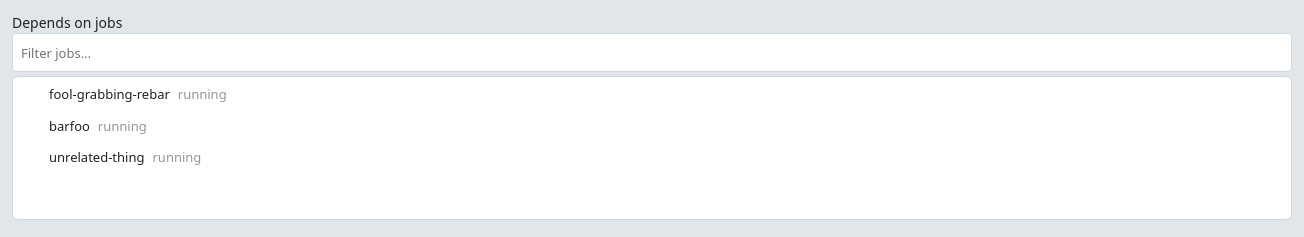
Test: DependsOnField › filters candidates by ANDed, case-insensitive substring terms
// "foo bar" — each word is an independent substring term, order-independent.
Type "foo bar" into the search field labelled "Filter jobs…".
click(652, 52); type("foo bar")  # box [12,33,1292,72]
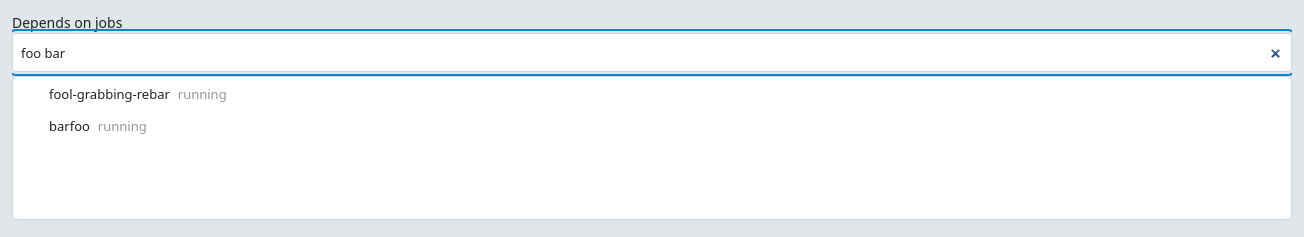
Result: the text "unrelated-thing" is gone
